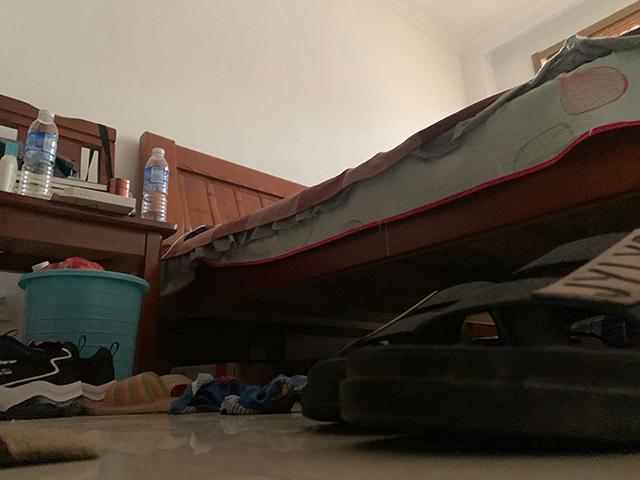bed: (139, 42, 640, 373)
slippers: (298, 228, 640, 450), (86, 369, 193, 414)
socks: (181, 375, 307, 419)
stool: (1, 94, 177, 375)
trashcan: (17, 267, 151, 383)
